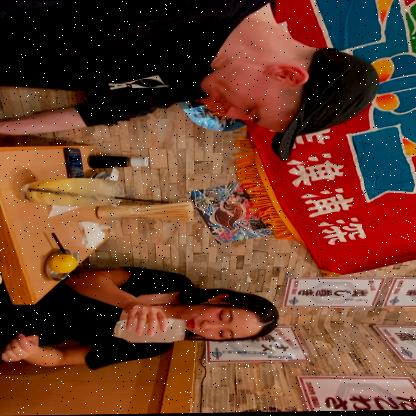streamer: (0, 0, 378, 164), (0, 263, 281, 370)
